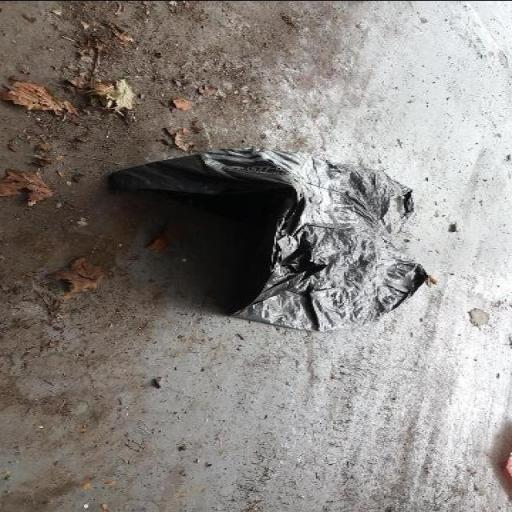plastic-bag: (99, 146, 435, 332)
